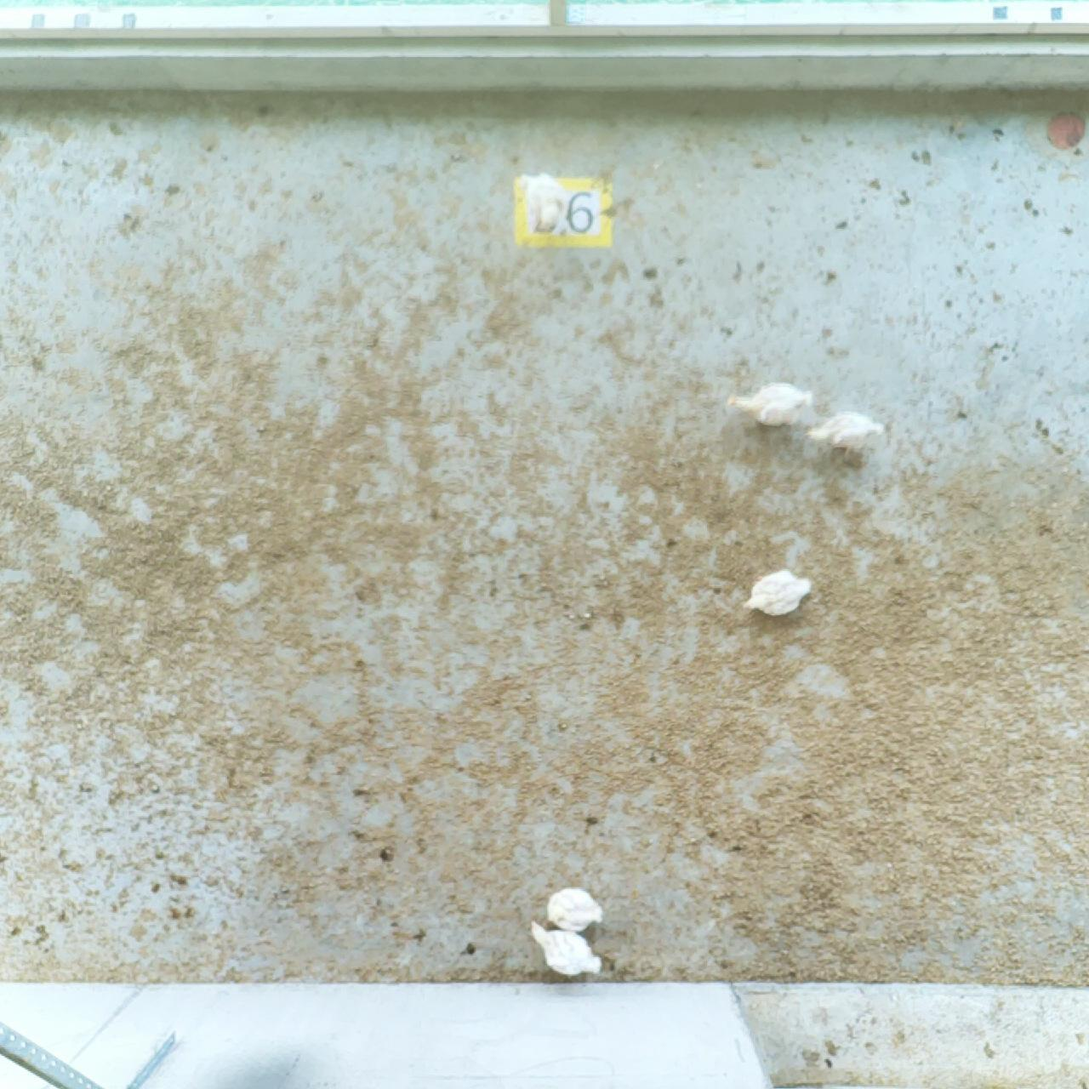chicken: (717, 371, 822, 434), (520, 913, 608, 980), (801, 402, 890, 467), (736, 562, 821, 624), (541, 880, 609, 937)
